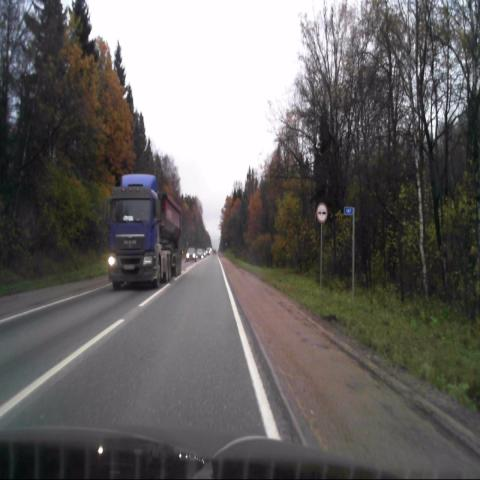3_20: (316, 202, 327, 222)
